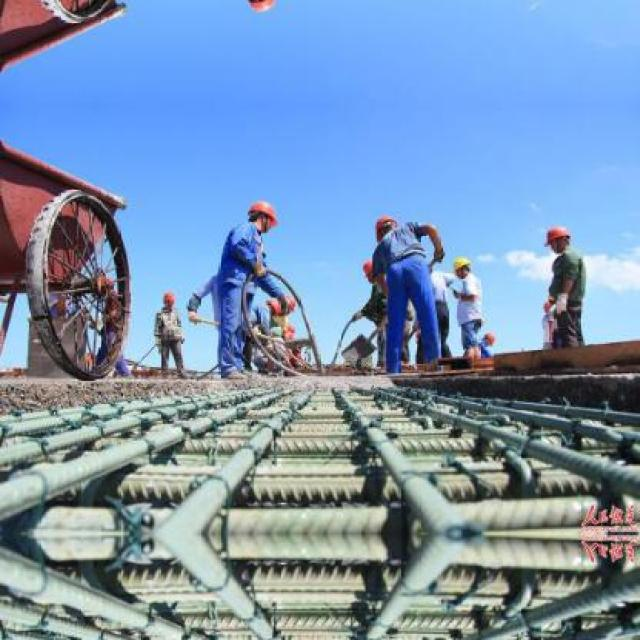helmet: (244, 195, 278, 232), (539, 222, 572, 256), (370, 211, 399, 241), (362, 254, 386, 284), (245, 0, 280, 19), (453, 252, 473, 280), (263, 294, 282, 318), (160, 286, 178, 308), (279, 293, 296, 313)
